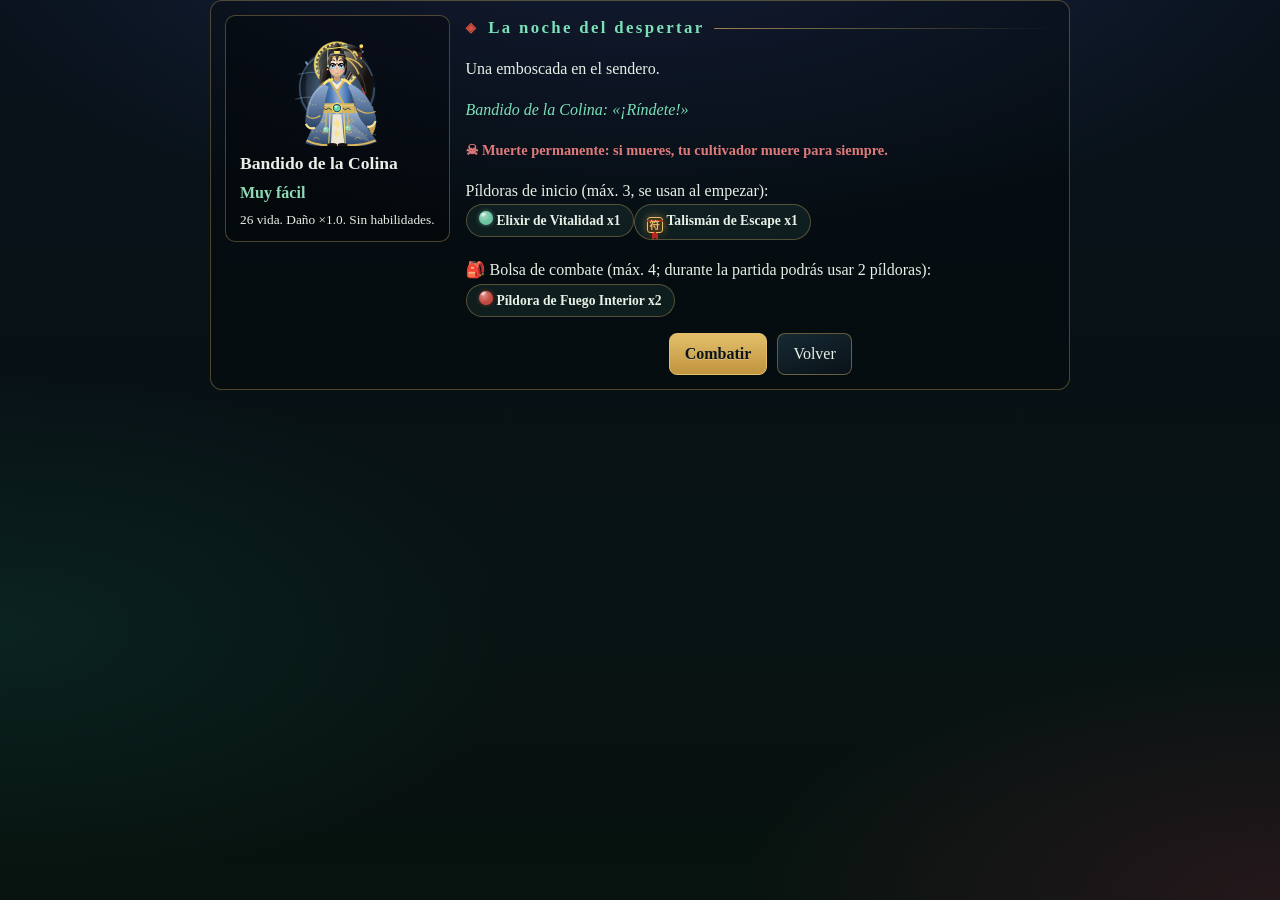
Test: Combate · muerte y arte › pinta el arte de las cartas en mano y en las recompensas
Click the button "Combatir": (718, 354) [669, 333, 767, 375]
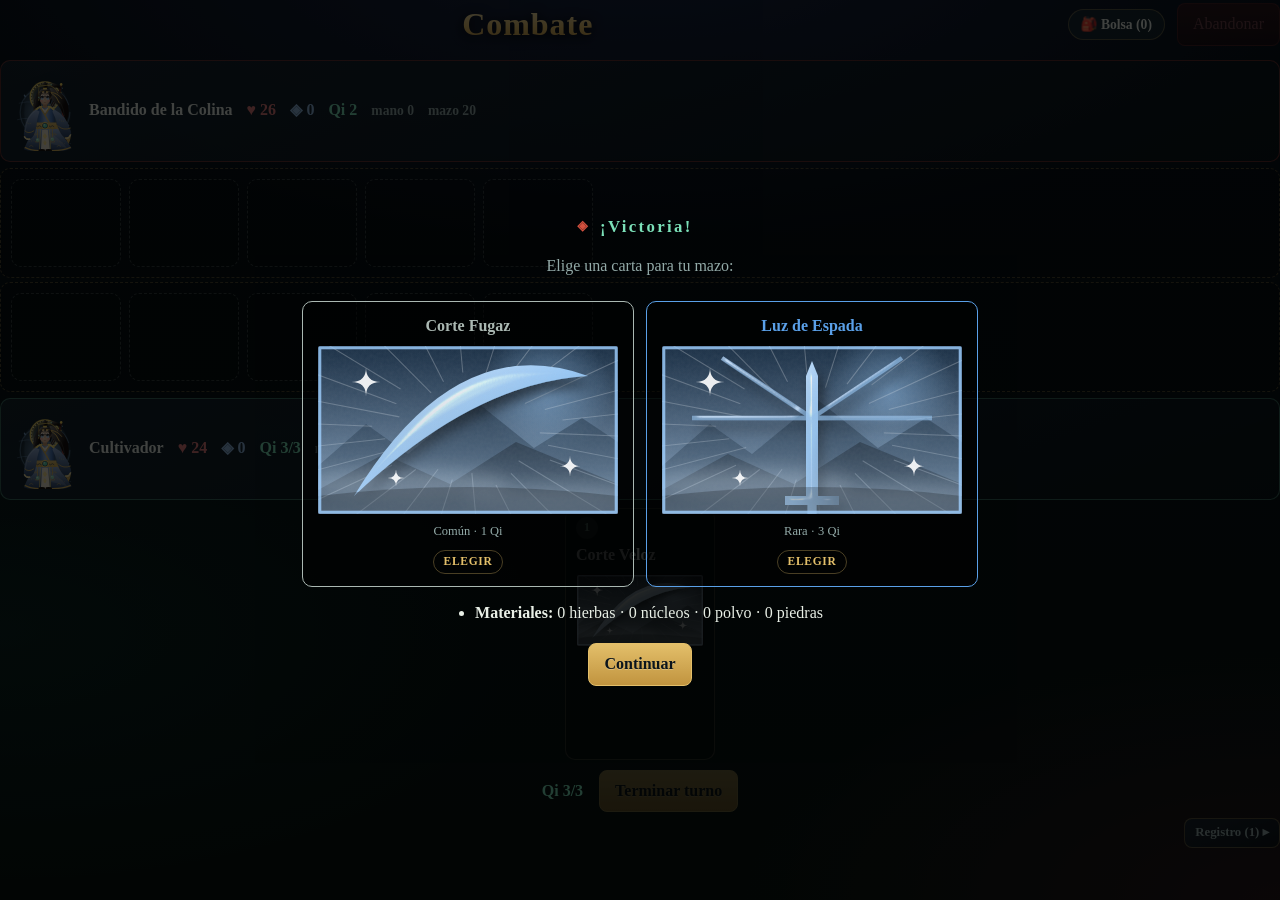
Check: the 3rd icon with class "art" is shown, box [576, 574, 704, 647]
Check: the heading "¡Victoria!" is shown, box [600, 217, 693, 236]
